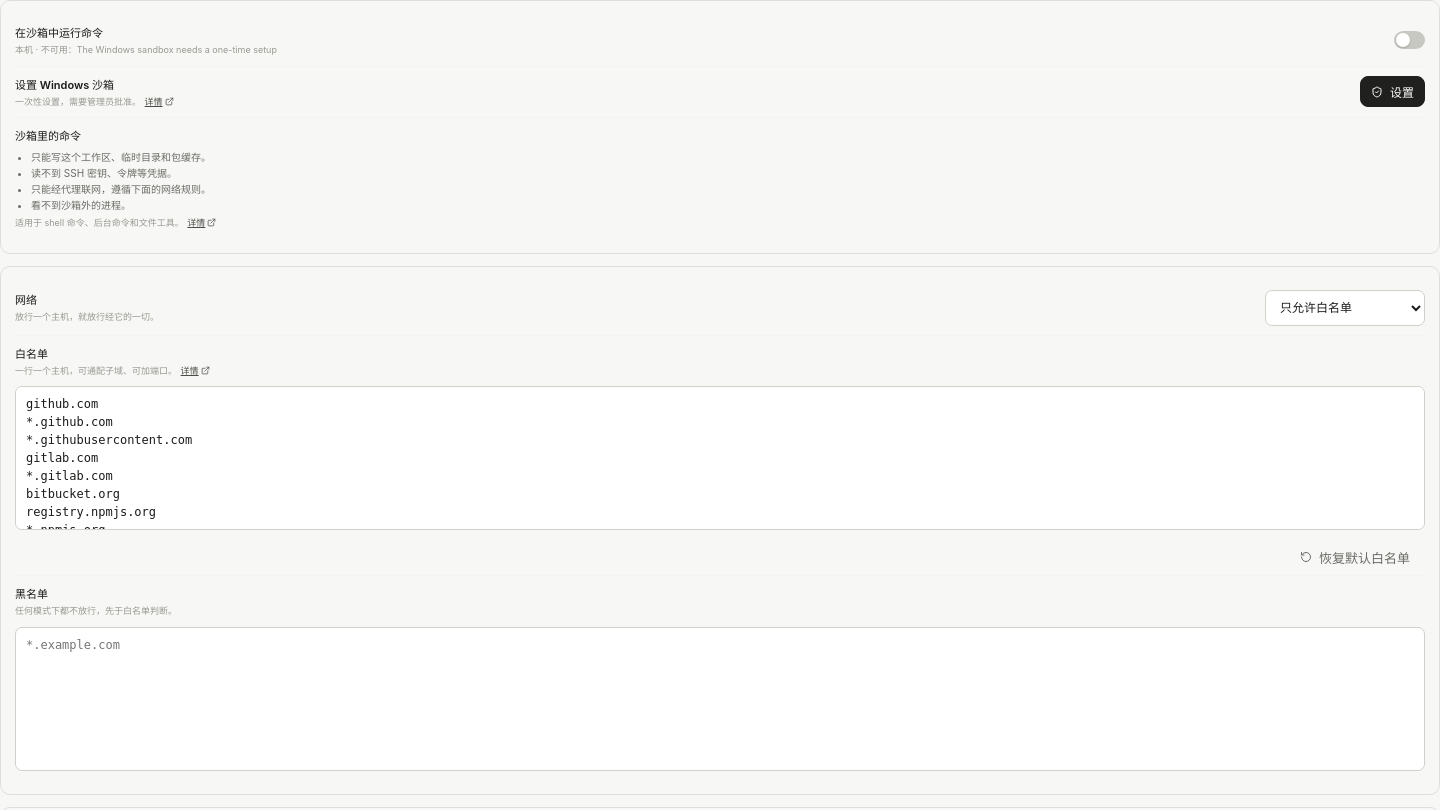
it: SandboxSettings › keeps the setup offered and says why when it fails
The width and height of the screenshot is (1440, 810).
Click the button "设置": (1392, 92) [1360, 76, 1425, 107]
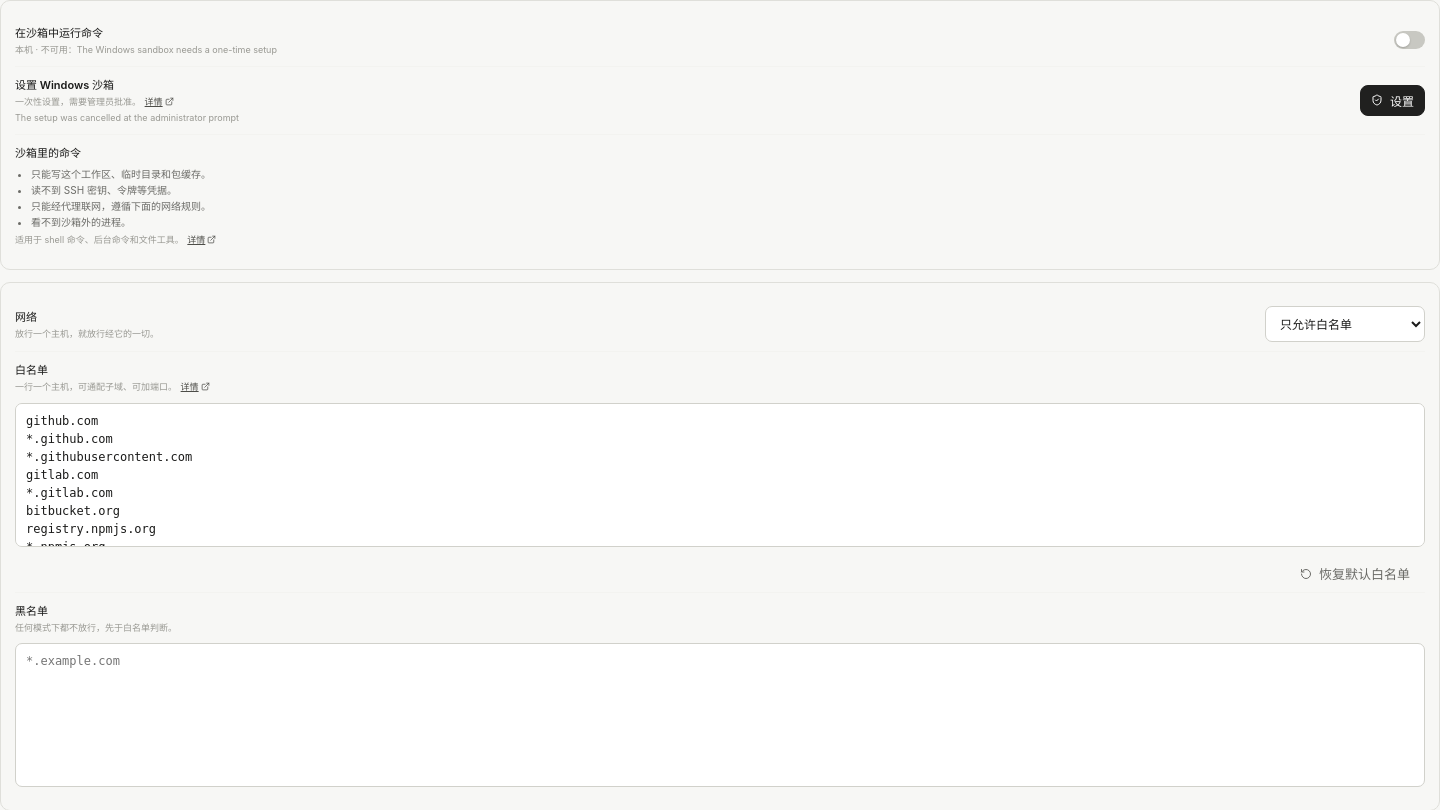
Expected: the button "设置" is enabled, [1360, 84, 1425, 116]
Expected: the message shows "cancelled at the administrator prompt", [15, 112, 239, 123]
